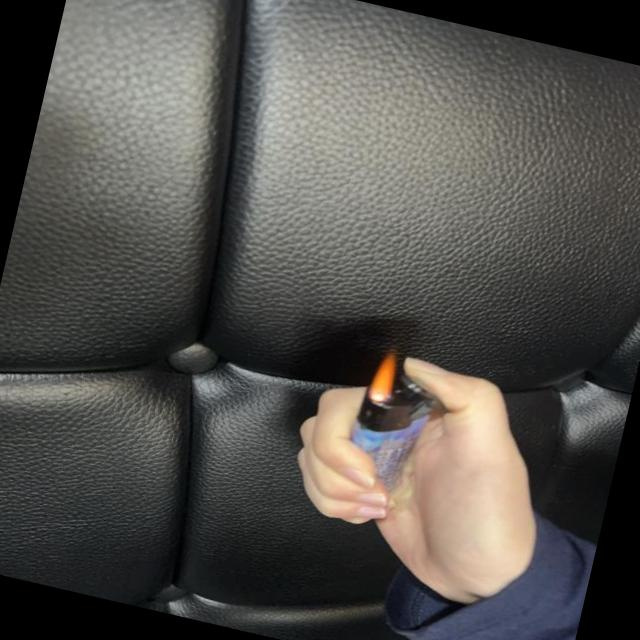Fire: (364, 347, 404, 409)
